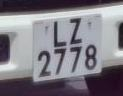2: (35, 48, 55, 81)
7: (67, 42, 84, 78), (51, 47, 69, 80)
8: (83, 42, 99, 75)
L: (50, 19, 69, 48)
Z: (68, 17, 87, 46)
